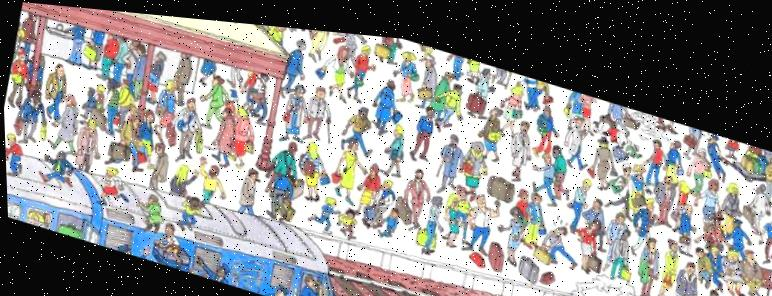waldo: (709, 197, 725, 215)
